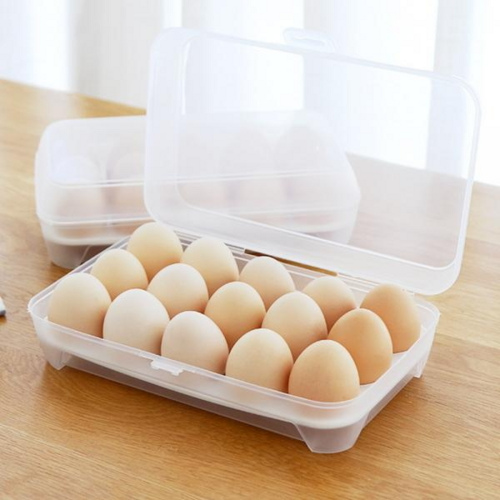egg: (42, 218, 424, 421)
